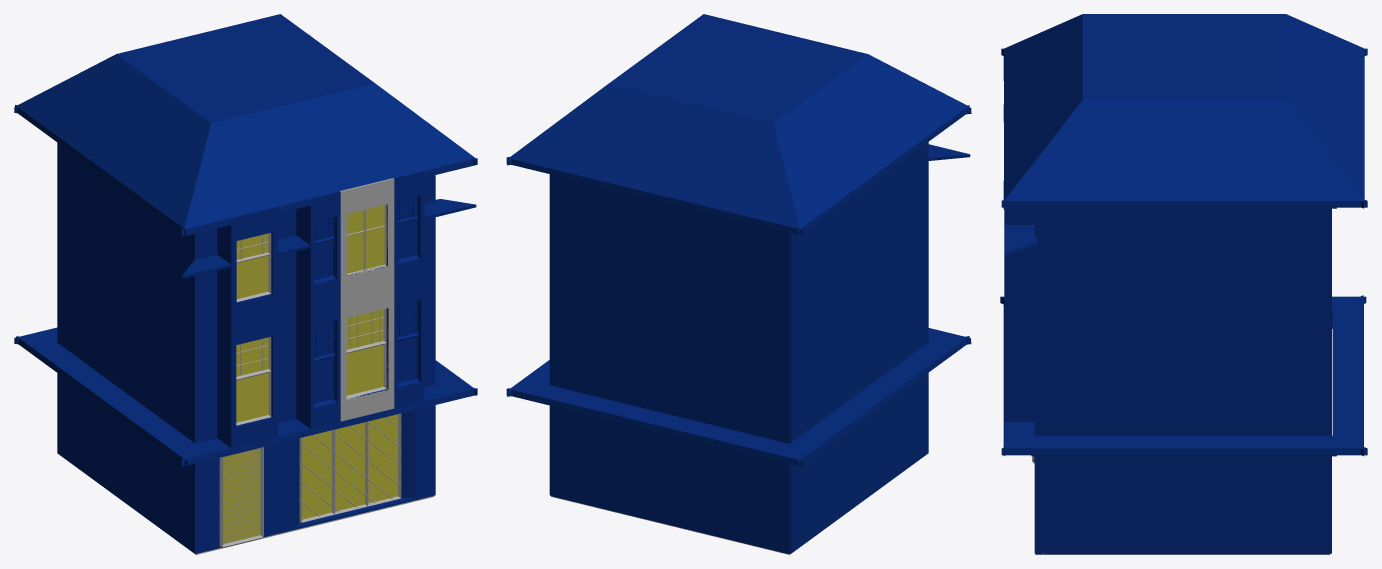
File: Haus 3.fbx
3 views of the same model, side by side, from view 1: azimuth 30°, elevation 25°; view 2: azimuth 150°, elevation 25°; view 3: azimuth 270°, elevation 25° (orthographic). The views are drawn at different scales.
Visible parts, largest first — view 1: pCube86, pCube78, pCube2, pCube32, polySurface3, pSphere13, pSphere14, pCube80, pCube79, pCube85, pCube50, pCube51 (+2 smaller); view 2: pCube1, pCube86, pCube78, pCube82, pCube80, pCube84, pCube85, pCube4, pCube81; view 3: pCube4, pCube86, pCube81, pSphere14, pCube82, pCube83, pCube79, pCube50, pCube1, pCube2.
Part boxes in pixels (left/top/right/bottom): pCube86: left=16, top=14, right=474, bottom=228; pCube78: left=57, top=142, right=196, bottom=553; pCube2: left=196, top=175, right=434, bottom=553; pCube32: left=217, top=206, right=277, bottom=448; polySurface3: left=340, top=178, right=394, bottom=421; pSphere13: left=296, top=191, right=340, bottom=428; pSphere14: left=393, top=171, right=424, bottom=408; pCube80: left=16, top=336, right=194, bottom=466; pCube79: left=181, top=385, right=477, bottom=466; pCube85: left=15, top=105, right=186, bottom=235; pCube50: left=424, top=199, right=476, bottom=219; pCube51: left=181, top=254, right=230, bottom=278; pCube1: left=550, top=174, right=789, bottom=553; pCube86: left=509, top=14, right=968, bottom=229; pCube78: left=789, top=142, right=928, bottom=553; pCube82: left=506, top=385, right=802, bottom=466; pCube80: left=789, top=336, right=969, bottom=466; pCube84: left=506, top=157, right=802, bottom=235; pCube85: left=797, top=105, right=969, bottom=236; pCube4: left=549, top=174, right=550, bottom=494; pCube81: left=506, top=360, right=549, bottom=396; pCube4: left=1035, top=208, right=1330, bottom=554; pCube86: left=1004, top=14, right=1364, bottom=200; pCube81: left=1001, top=435, right=1367, bottom=456; pSphere14: left=1004, top=207, right=1034, bottom=421; pCube82: left=1332, top=295, right=1363, bottom=456; pCube83: left=1001, top=200, right=1367, bottom=208; pCube79: left=1003, top=300, right=1034, bottom=455; pCube50: left=1005, top=225, right=1037, bottom=255; pCube1: left=1330, top=208, right=1331, bottom=553; pCube2: left=1034, top=209, right=1035, bottom=553.
Bounding box in the file's own units: 11.19 × 14.67 × 11.22.
